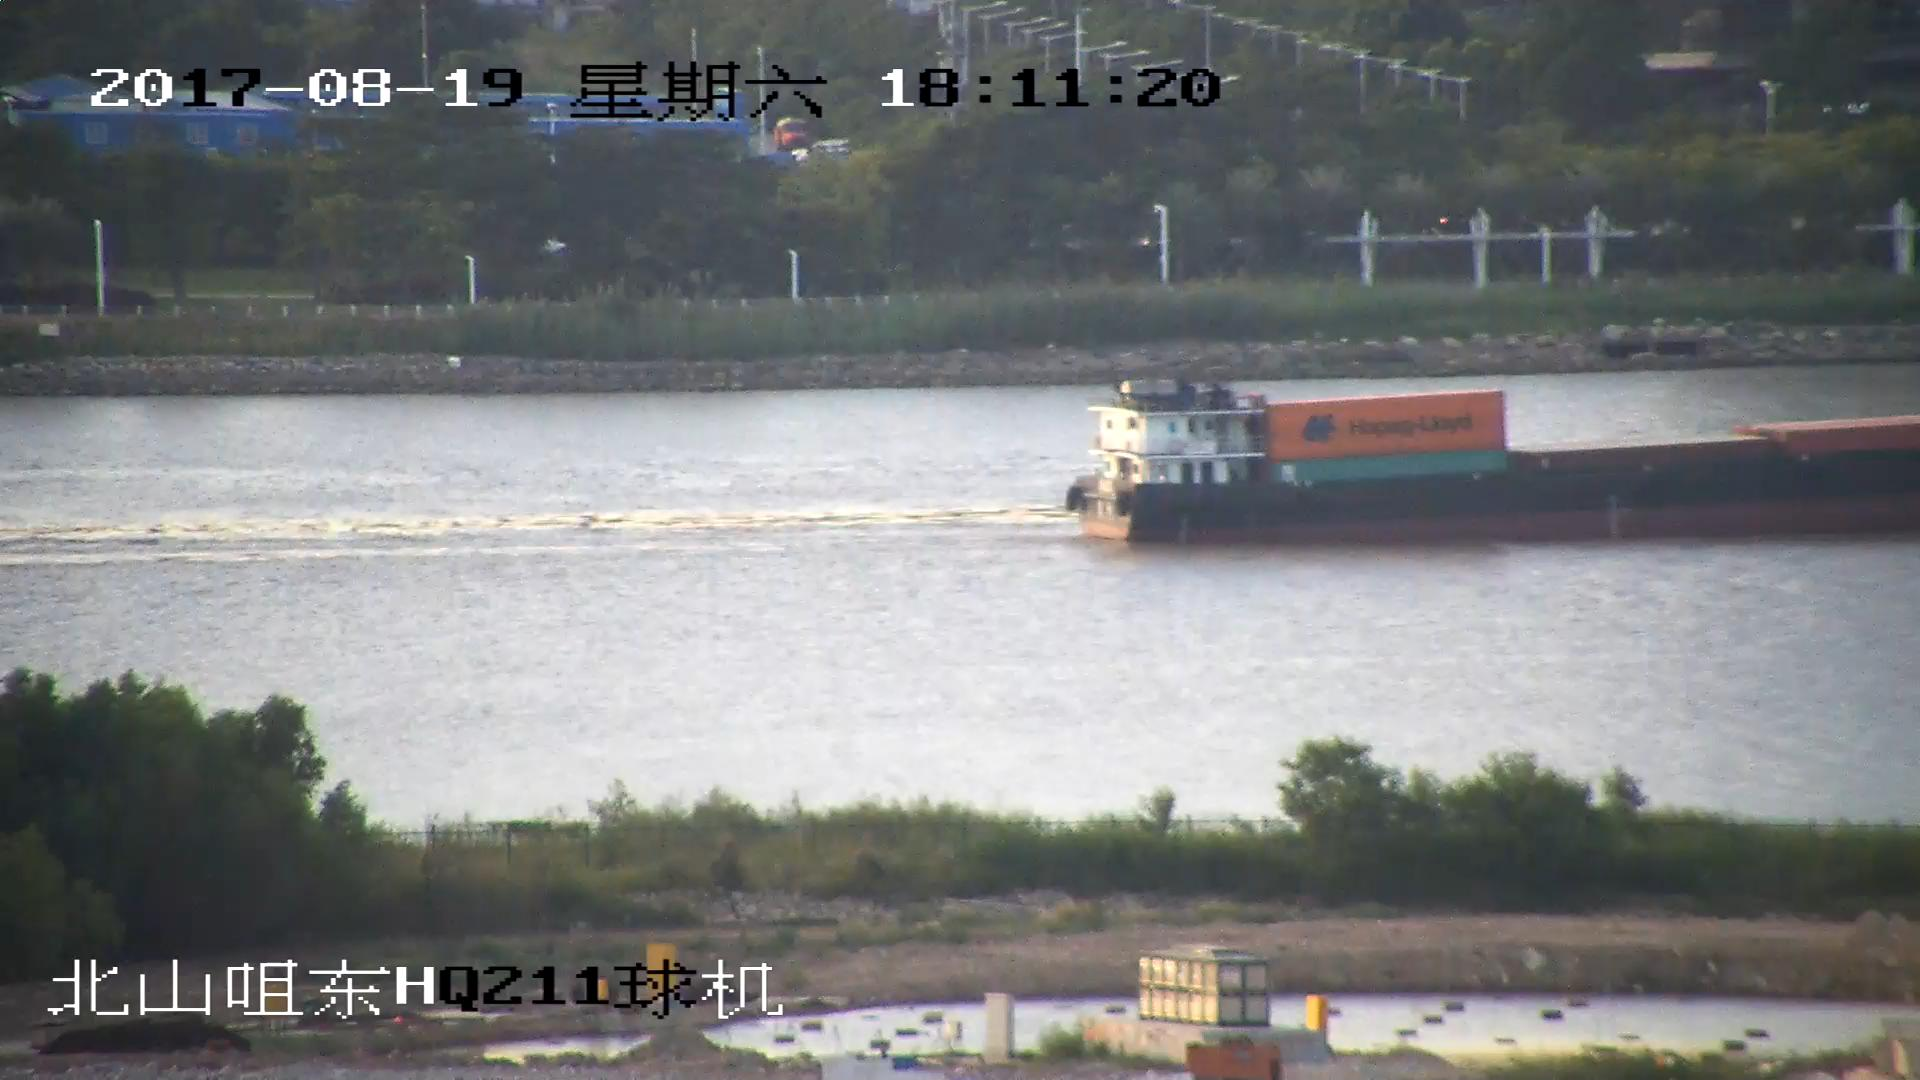container ship: (1061, 380, 1920, 544)
